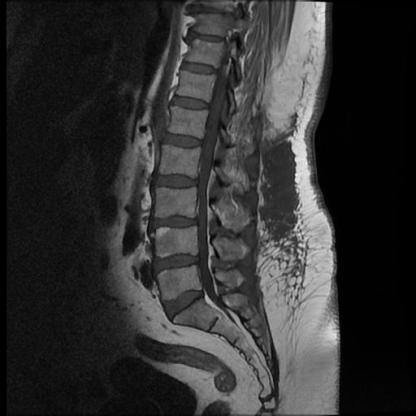Degenerative Disc Diseaserotation: (155, 252, 200, 275)
Disc Bulgerotation: (163, 291, 205, 316), (153, 213, 200, 235), (155, 252, 200, 274), (156, 172, 199, 192), (162, 133, 204, 151)
